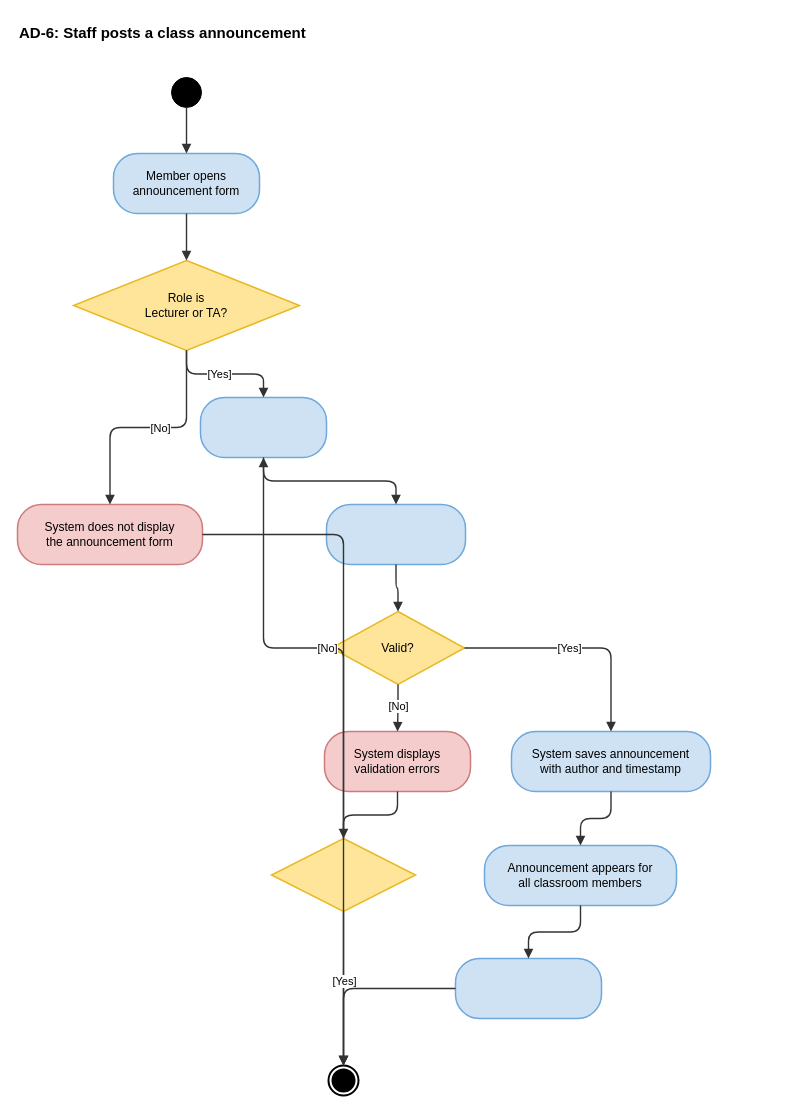
The diagram is 788 pixels wide and 1113 high, and some of its shapes have lost their labels. Each missing label, with the box of its shape:
Cancel?: (270, 837, 416, 912)
Staff enters title and body: (199, 396, 327, 458)
System shows post confirmation: (454, 957, 602, 1019)
System validates required fields: (325, 503, 466, 565)
